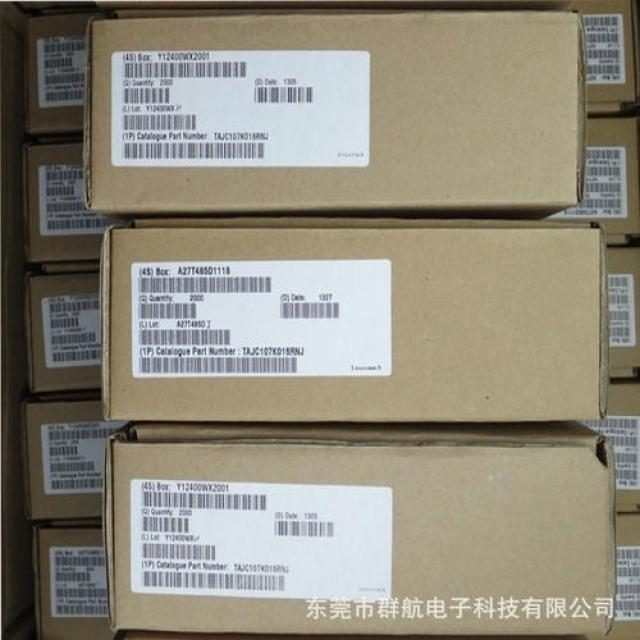box: (102, 421, 618, 636), (83, 11, 586, 220), (98, 219, 609, 422), (20, 400, 130, 520), (527, 0, 636, 112), (543, 118, 639, 244), (23, 144, 112, 262), (32, 523, 119, 639), (26, 13, 105, 132), (25, 271, 102, 391), (576, 384, 639, 511), (584, 515, 639, 639), (608, 248, 639, 376)
